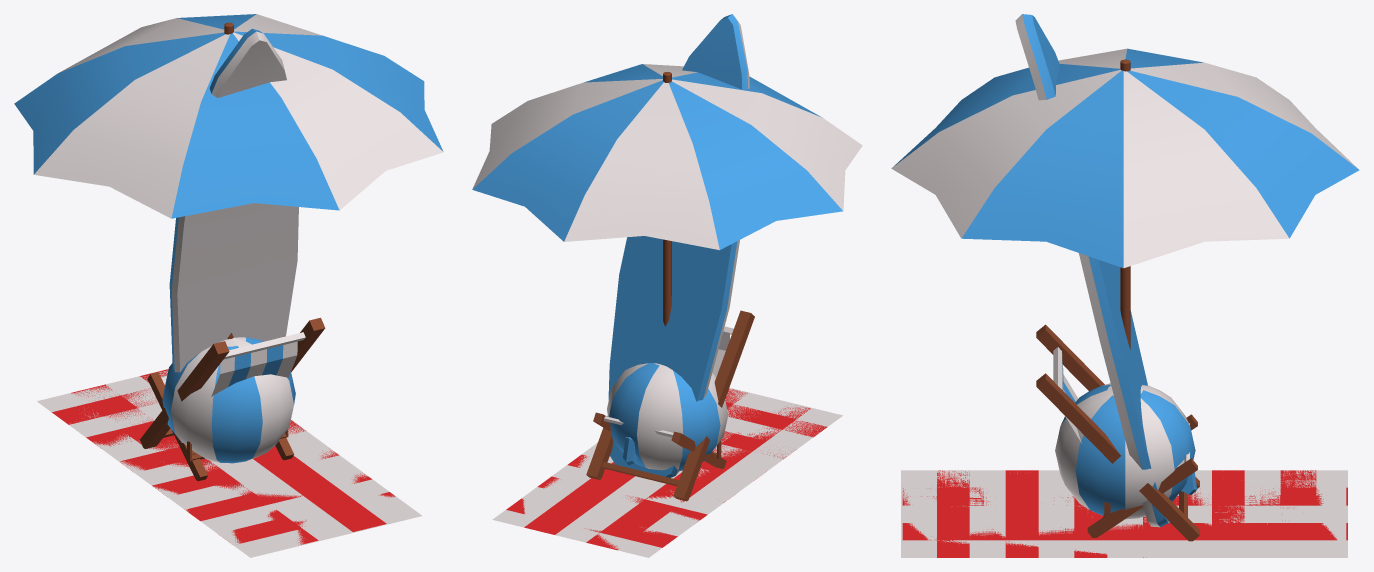
Rendered from beach props (1).fbx.
3 renders of one model, left to right at view 1: azimuth 30°, elevation 25°; view 2: azimuth 150°, elevation 25°; view 3: azimuth 270°, elevation 25°, orthographic. The views are drawn at different scales.
Parts seen in each view (by area): view 1: beach3, beach4, beach1, beach2, beach5, beach6; view 2: beach3, beach4, beach1, beach5, beach2, beach6; view 3: beach3, beach2, beach1, beach5, beach4, beach6.
Part boxes in pixels (x1,y1,x2,y2): beach3: (14, 14, 443, 339); beach4: (169, 28, 298, 372); beach1: (37, 369, 421, 557); beach2: (37, 370, 421, 557); beach5: (162, 337, 295, 463); beach6: (140, 317, 325, 481); beach3: (472, 64, 862, 326); beach4: (608, 14, 749, 477); beach1: (492, 389, 835, 557); beach5: (607, 363, 727, 470); beach2: (493, 387, 842, 557); beach6: (586, 310, 754, 501); beach3: (891, 48, 1359, 349); beach2: (901, 470, 1346, 557); beach1: (902, 470, 1347, 557); beach5: (1055, 383, 1195, 519); beach4: (1015, 14, 1196, 527); beach6: (1036, 324, 1199, 541).
Bounding box in the file's own units: 200 × 232 × 200.
